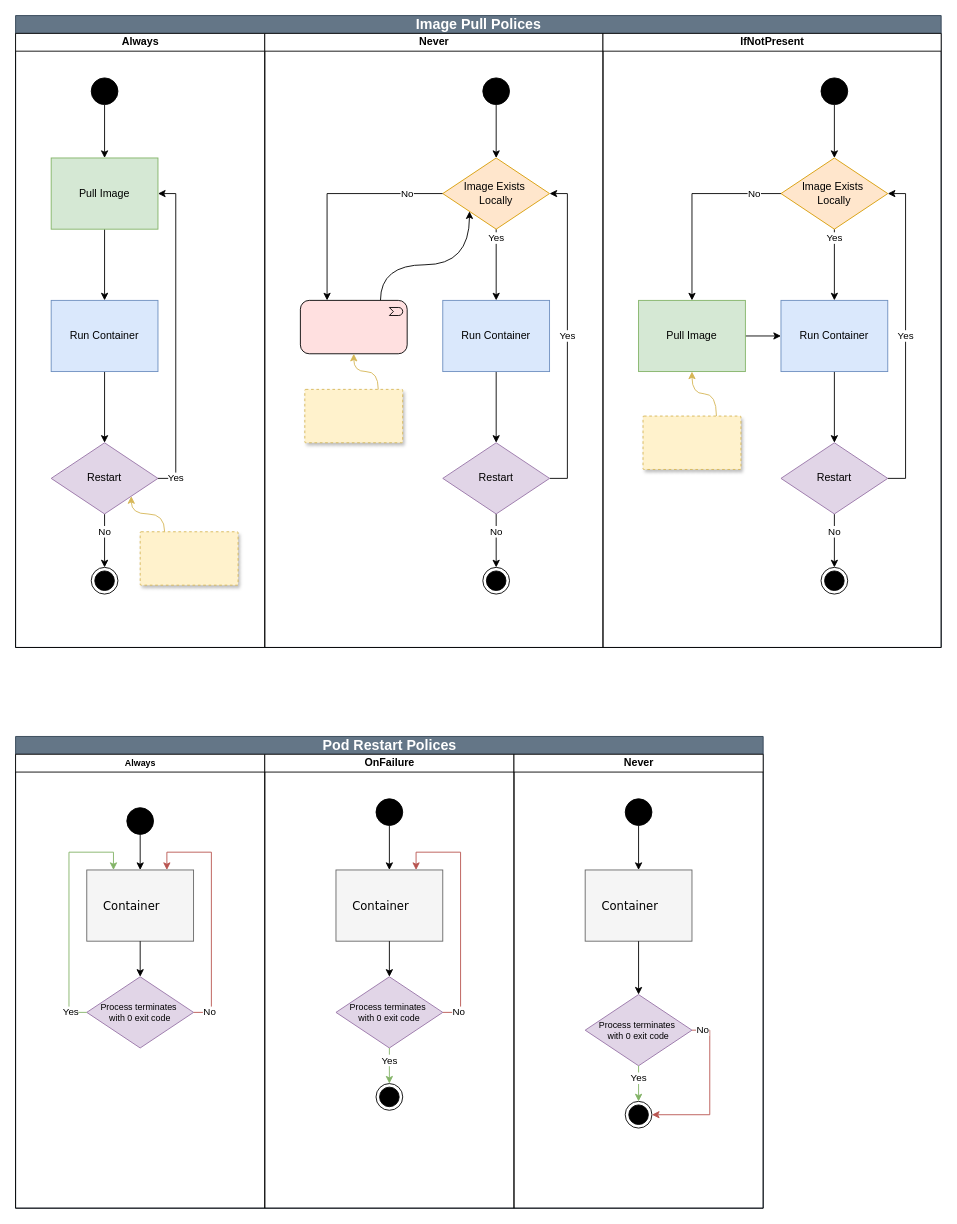
Some shapes in this 957 by 1224 pixel diagram are drawn without their labels. Here are the shapes that lost their labels. From the top down, the centre of each, then its label:
(x=353, y=326): Error Image Never Pull
(x=354, y=417): A warning event is recorded
(x=692, y=444): Image is pulled at first time
(x=189, y=559): Image is pulled again when restarting container
